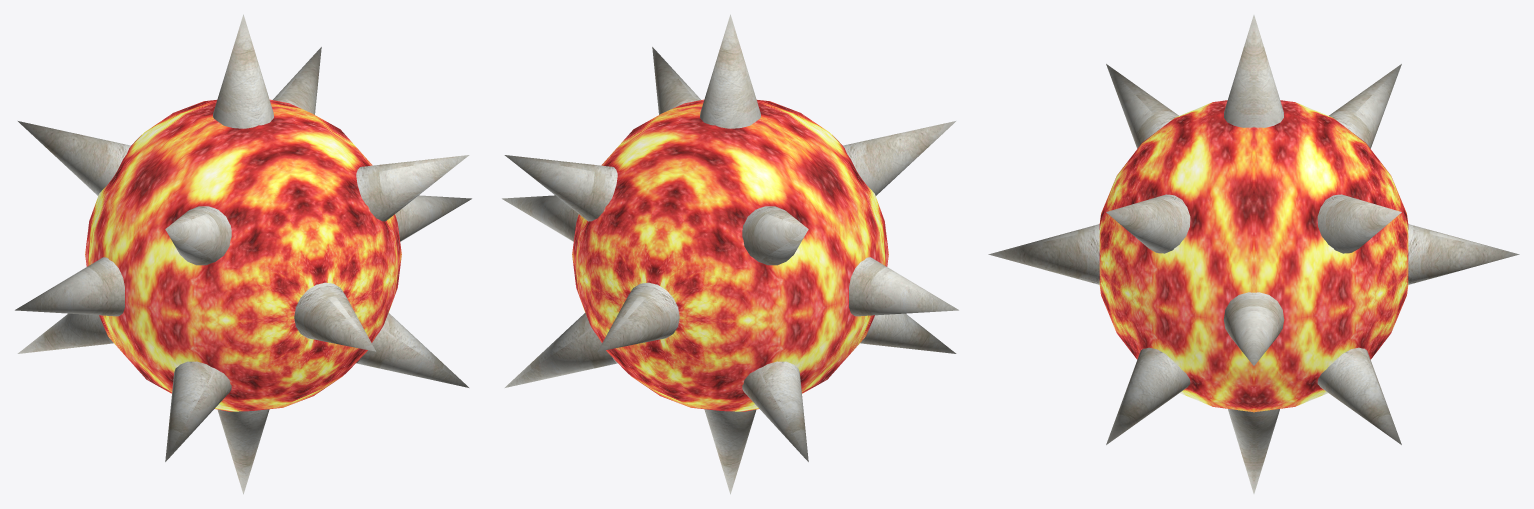
3 views of the same model, side by side, from view 1: azimuth 30°, elevation 25°; view 2: azimuth 150°, elevation 25°; view 3: azimuth 270°, elevation 25° (orthographic).
Visible parts, largest first — view 1: Spiny Egg; view 2: Spiny Egg; view 3: Spiny Egg.
Part boxes in pixels (x1,y1,x2,y2): Spiny Egg: (15, 14, 471, 494); Spiny Egg: (502, 14, 958, 494); Spiny Egg: (988, 15, 1519, 493).
Size of the model in its own units: 217 by 218 by 218.
Materials: 2 (2 with a texture image).
